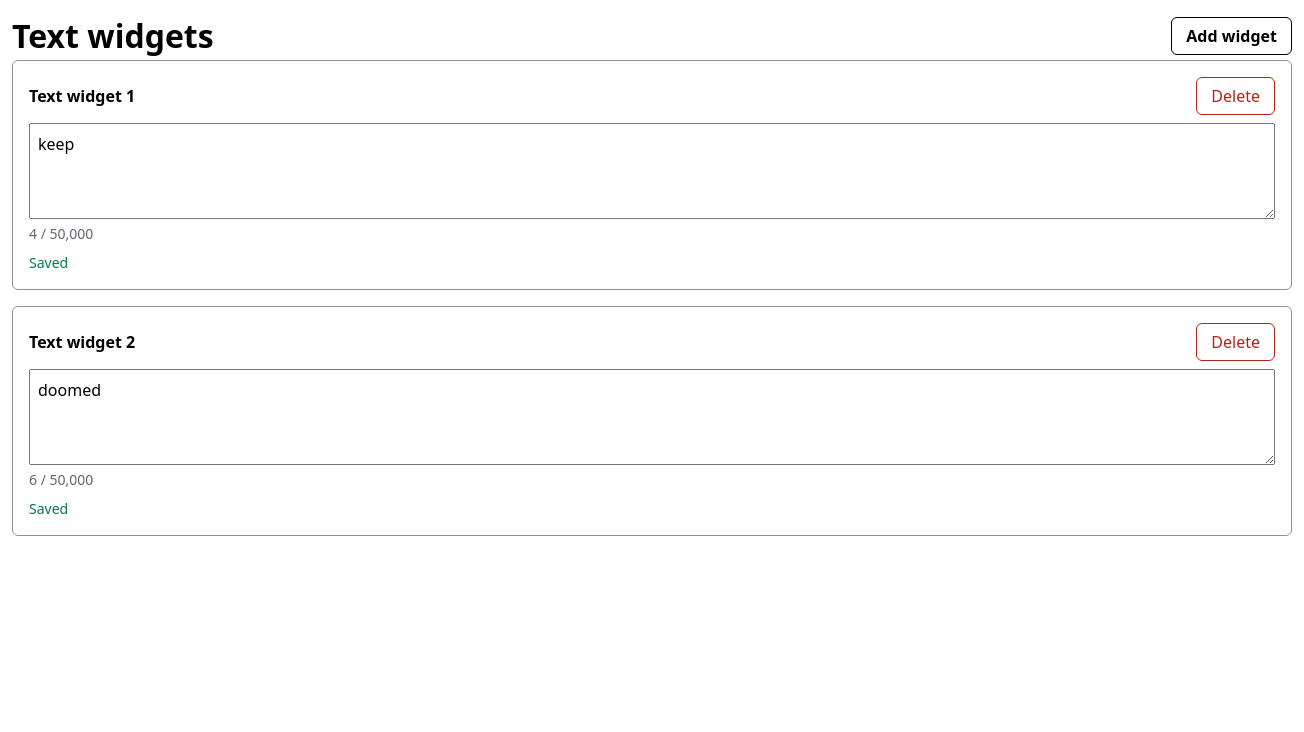
Scenario: WidgetBoard › removes a widget via its delete button and shows a notice if deletion fails
Click the button with aria-label "Delete widget 2" at (1236, 342), box [1196,323,1275,361]
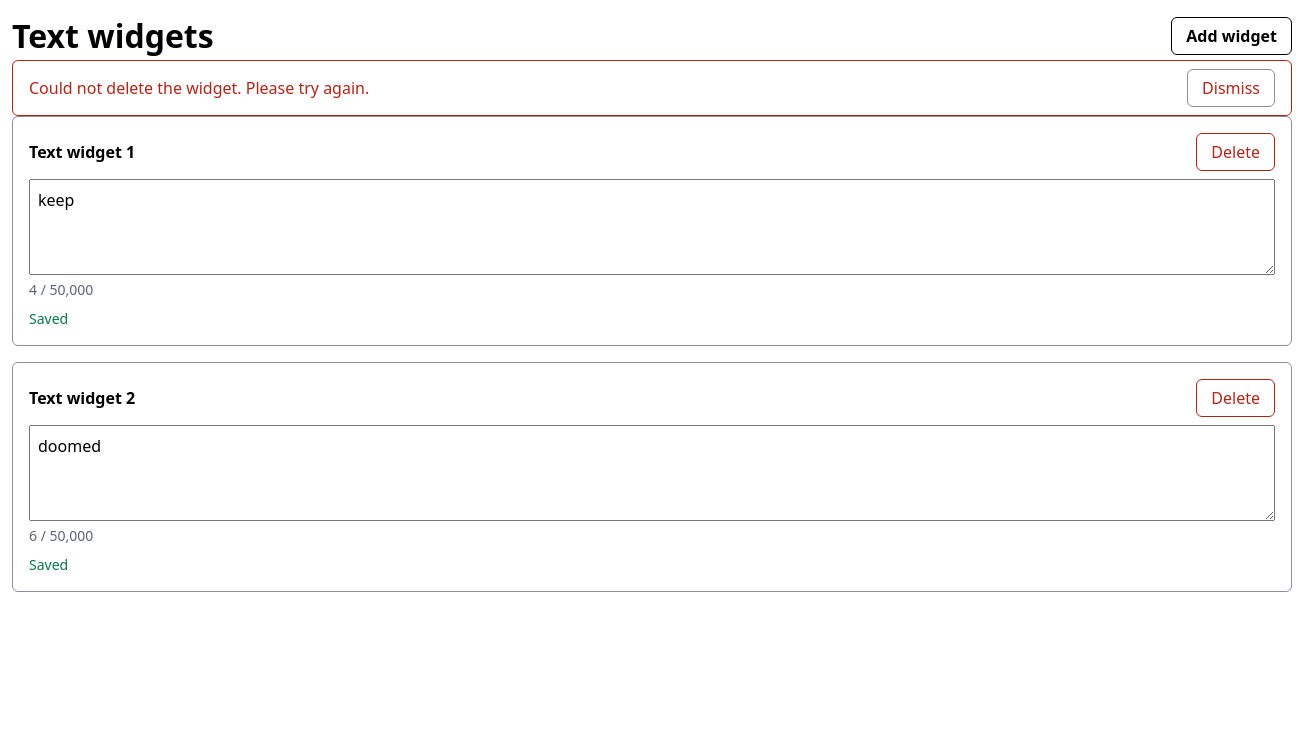
Now the message "Could not delete the widget. Please try again. Dismiss" is shown, box [12,60,1292,116]
